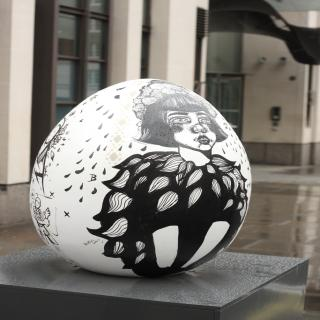Egg: (29, 77, 253, 278)
